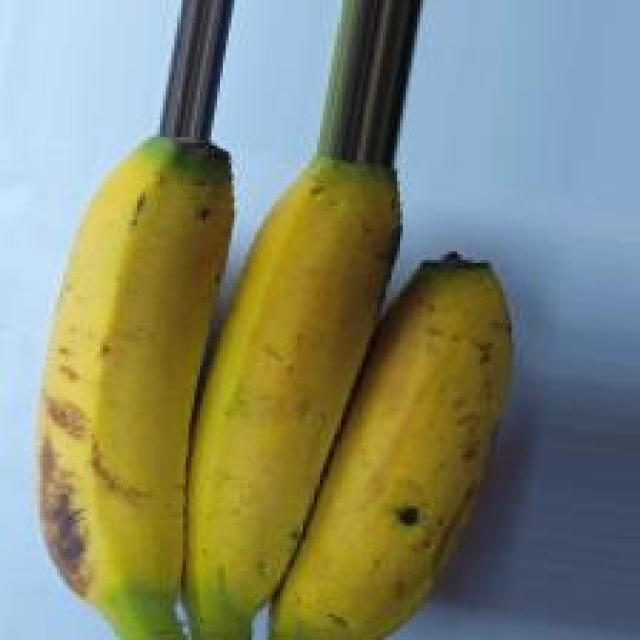banana: (26, 63, 528, 640)
